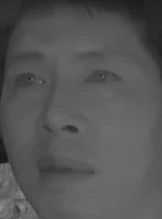eye: (84, 66, 123, 89), (11, 69, 48, 90)
mouth: (34, 149, 94, 188)
